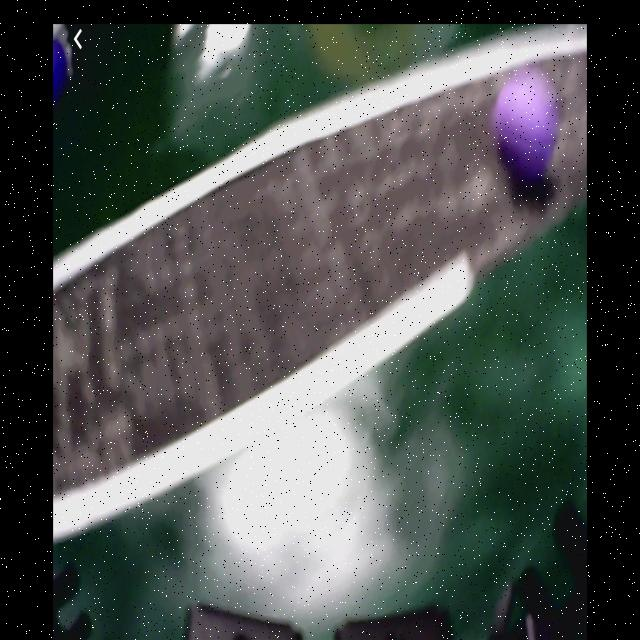ball: (493, 69, 564, 189), (53, 47, 68, 101)
